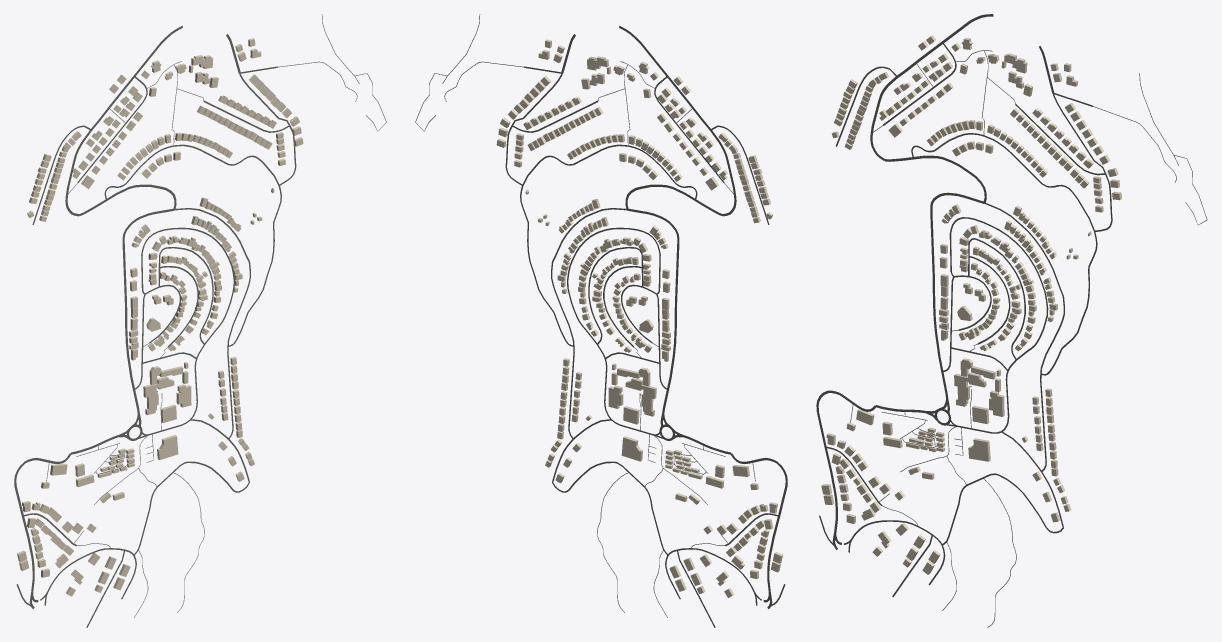
Rendered from historic-palestine-10_28_3516_3222.glb.
The picture shows the model from 3 angles, left to right: view 1: azimuth 30°, elevation 25°; view 2: azimuth 150°, elevation 25°; view 3: azimuth 330°, elevation 25°; orthographic projection. The views are drawn at different scales.
Parts seen in each view (by area): view 1: Road .041, Road רבבות אפרים.002, Road תרצה.001, Road היובל.001, Road תרצה, Building_.162, Road יפה נוף.002; view 2: Road .041, Road רבבות אפרים.002, Road תרצה.001, Road היובל.001, Road תרצה, Building_.162, Road יפה נוף.002; view 3: Road .041, Road רבבות אפרים.002, Road תרצה.001, Road היובל.001, Road תרצה, Building_.162, Road יפה נוף.002.
Part boxes in pixels (left/top/right/bottom): Road .041: left=104, top=144, right=281, bottom=346; Road רבבות אפרים.002: left=141, top=227, right=234, bottom=435; Road תרצה.001: left=122, top=208, right=174, bottom=412; Road היובל.001: left=65, top=25, right=182, bottom=216; Road תרצה: left=174, top=208, right=250, bottom=438; Building_.162: left=143, top=376, right=174, bottom=415; Road יפה נוף.002: left=14, top=453, right=71, bottom=592; Road .041: left=520, top=144, right=697, bottom=346; Road רבבות אפרים.002: left=567, top=227, right=660, bottom=435; Road תרצה.001: left=627, top=208, right=679, bottom=413; Road היובל.001: left=619, top=25, right=736, bottom=216; Road תרצה: left=551, top=208, right=627, bottom=438; Building_.162: left=625, top=377, right=656, bottom=416; Road יפה נוף.002: left=731, top=453, right=787, bottom=592; Road .041: left=911, top=133, right=1097, bottom=375; Road רבבות אפרים.002: left=949, top=217, right=1048, bottom=433; Road תרצה.001: left=930, top=192, right=984, bottom=398; Road היובל.001: left=870, top=14, right=993, bottom=160; Road תרצה: left=984, top=202, right=1064, bottom=471; Building_.162: left=954, top=372, right=986, bottom=406; Road יפה נוף.002: left=816, top=390, right=876, bottom=532.
Bounding box in the file's own units: 847 × 1273 × 8.7.
